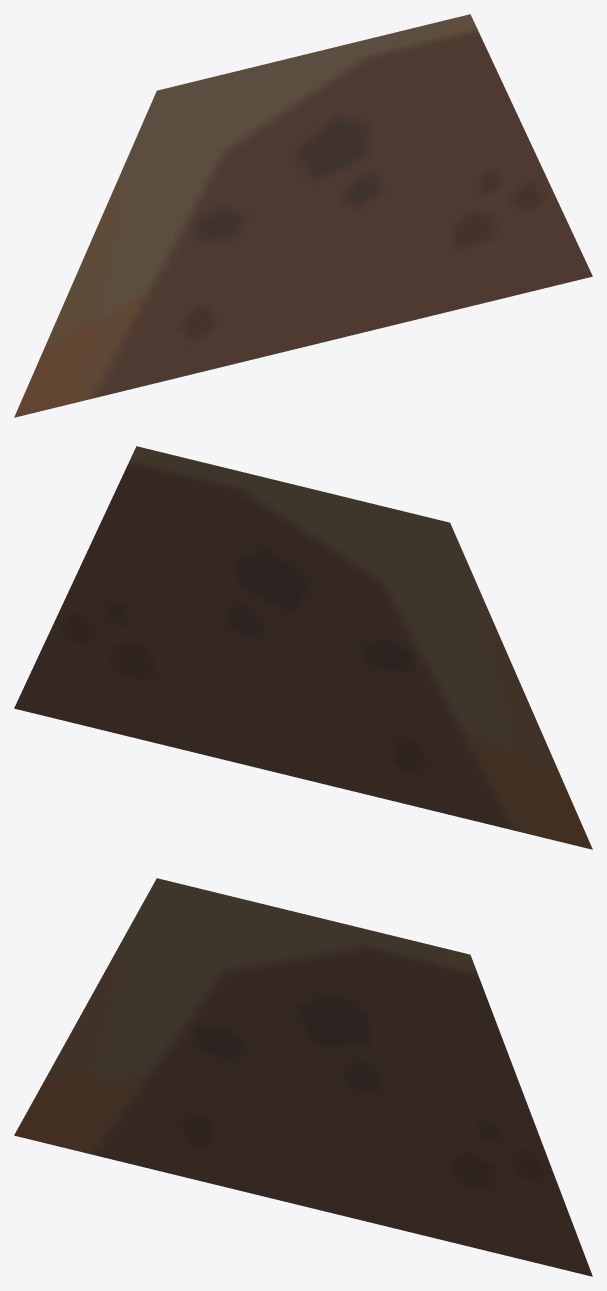
Rendered from GatePlate.fbx.
The picture shows the model from 3 angles, top to bottom: view 1: azimuth 30°, elevation 25°; view 2: azimuth 150°, elevation 25°; view 3: azimuth 330°, elevation 25°; orthographic projection.
Visible parts, largest first — view 1: Gate_plate1; view 2: Gate_plate1; view 3: Gate_plate1.
Part boxes in pixels (left/top/right/bottom): Gate_plate1: left=14, top=14, right=592, bottom=417; Gate_plate1: left=14, top=446, right=592, bottom=849; Gate_plate1: left=14, top=878, right=592, bottom=1276.
Size of the model in its own units: 1.99 by 0.96 by 5.88e-17.
1 material, 1 textured.
